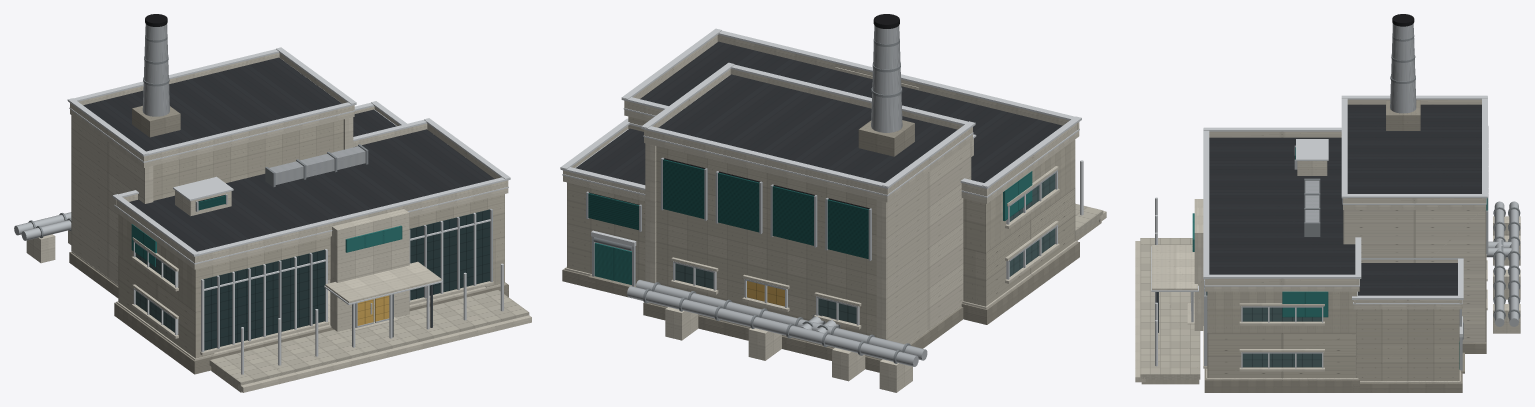
Rendered from townhall-atomic-age-built.glb.
The picture shows the model from 3 angles, left to right: view 1: azimuth 30°, elevation 25°; view 2: azimuth 150°, elevation 25°; view 3: azimuth 270°, elevation 25°; orthographic projection. The views are drawn at different scales.
Bounding box in the file's own units: 32.36 × 24.88 × 33.47.
41 materials, 36 textured.
